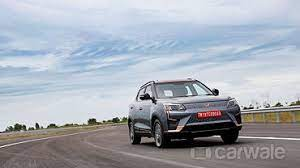XUV 400: (127, 77, 241, 147)
